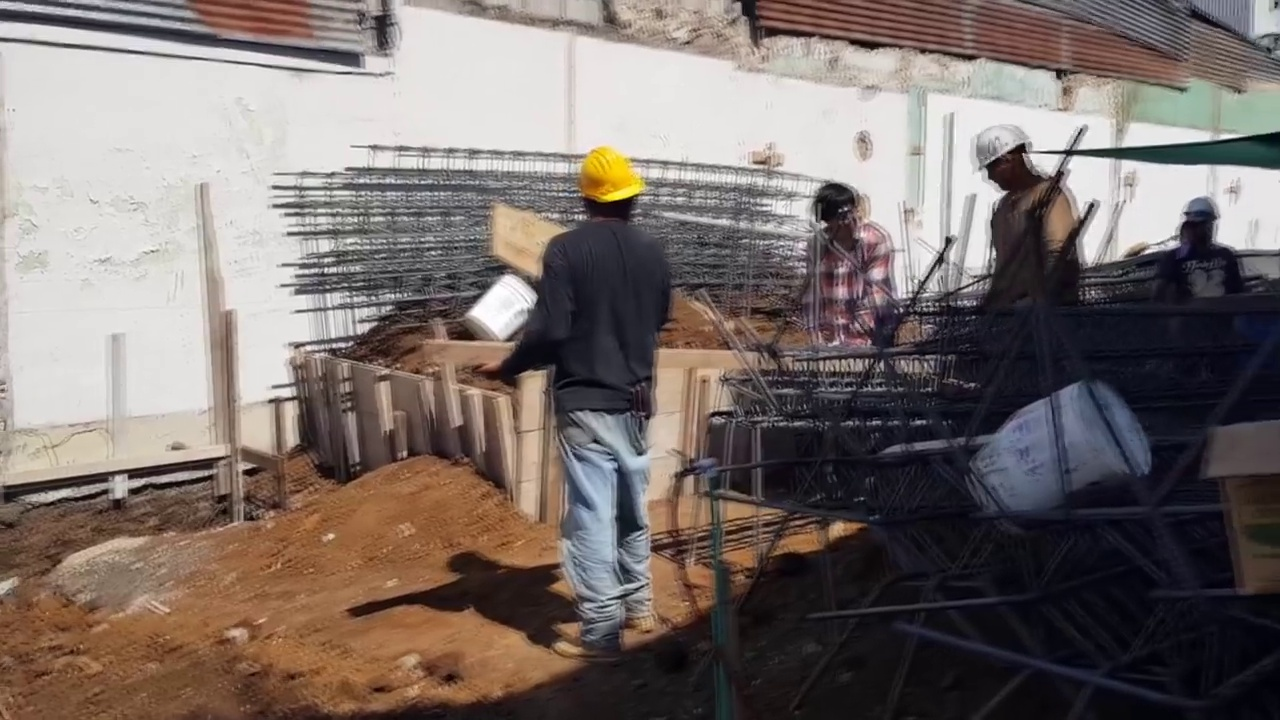helmet: (575, 146, 647, 208), (970, 120, 1038, 170), (1186, 196, 1221, 228)
helmet-off: (814, 177, 867, 244)
helmet-on: (569, 137, 649, 238), (964, 114, 1053, 192), (1181, 197, 1223, 246)
person: (482, 137, 673, 673), (968, 113, 1099, 325), (804, 174, 887, 361), (1169, 197, 1244, 310)
